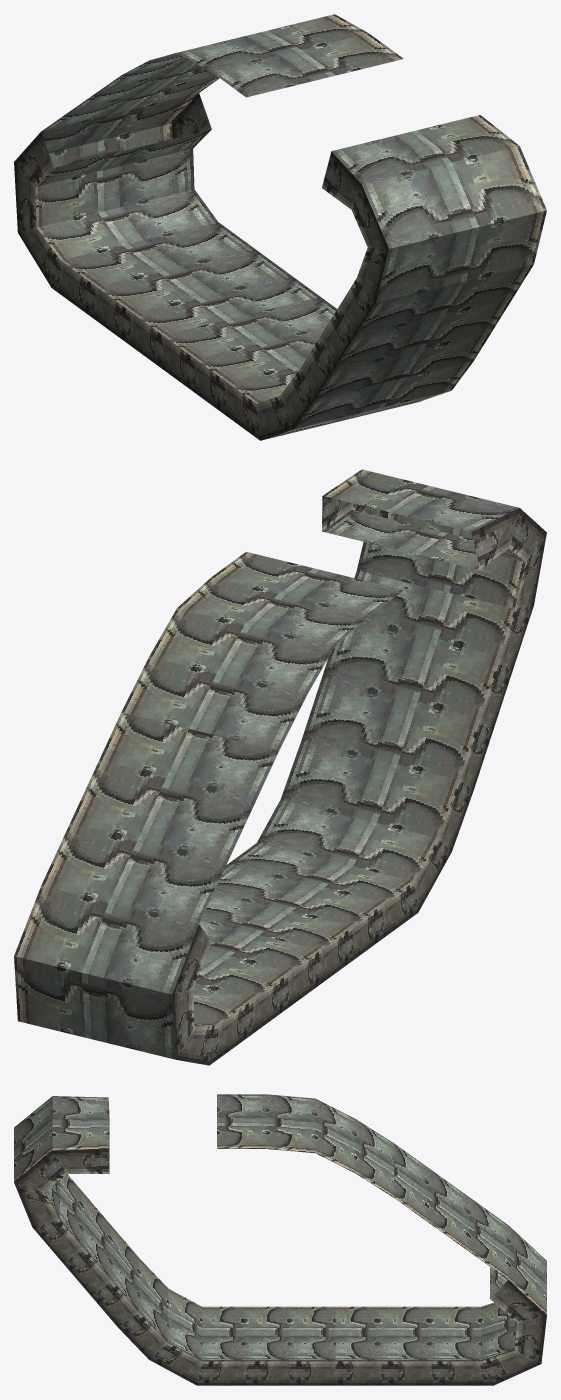
Rendered from VXLTNKH_TRAC_R.obj.
3 renders of one model, top to bottom at view 1: azimuth 30°, elevation 25°; view 2: azimuth 150°, elevation 25°; view 3: azimuth 270°, elevation 25°, orthographic. The views are drawn at different scales.
Visible parts, largest first — view 1: Node 0; view 2: Node 0; view 3: Node 0.
Boxes of the visible parts, x1,y1,x2,y2 form: Node 0: (14,14,546,440); Node 0: (14,469,546,1065); Node 0: (14,1094,546,1385).
Bounding box in the file's own units: 1.41 × 2.84 × 5.8.
Materials: 1 (1 with a texture image).
